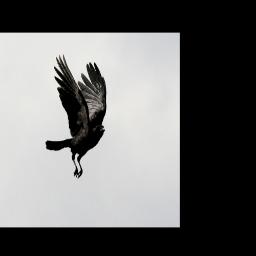Crow: (45, 54, 108, 181)
